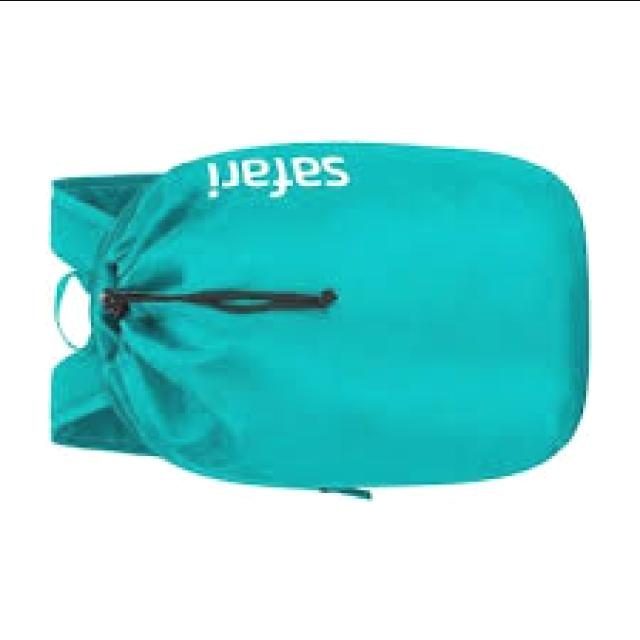backpack: (46, 141, 590, 502)
